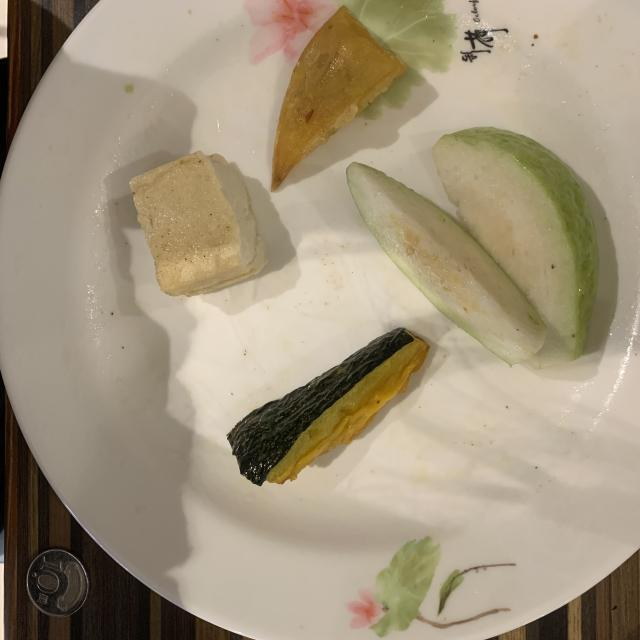coin: (26, 549, 89, 618)
creamy tofu -without sauce-: (130, 151, 266, 296)
guava -sliced-: (346, 128, 599, 368)
pumpkin: (228, 328, 429, 485)
